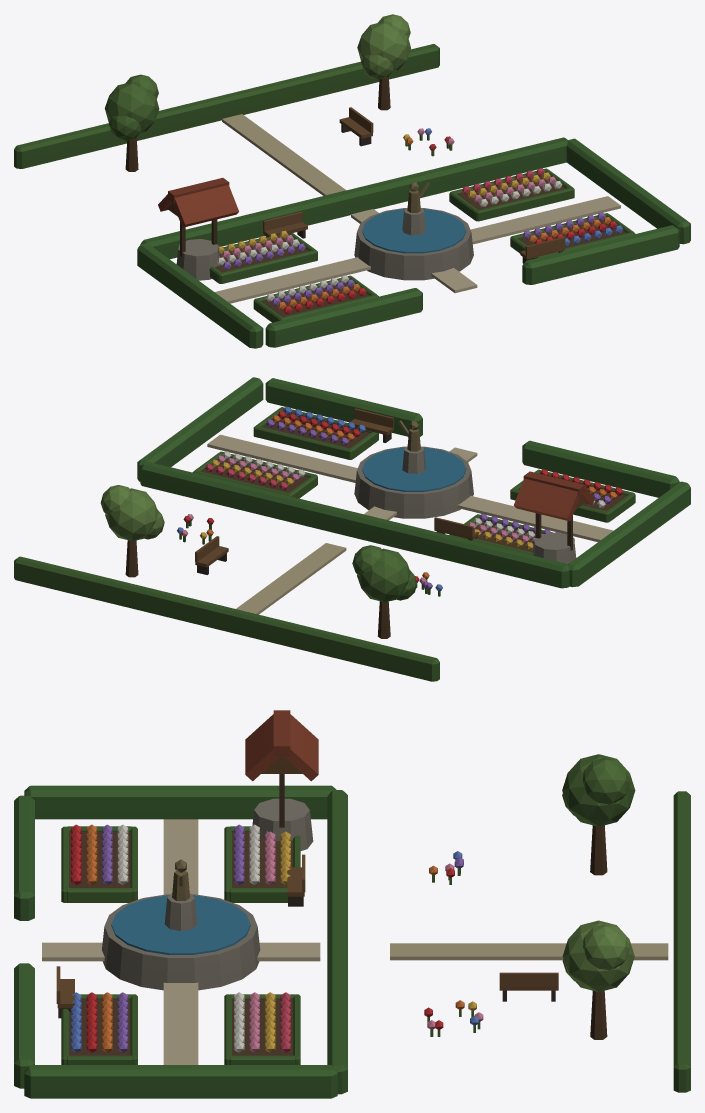
File: fountaingarden.glb
3 renders of one model, top to bottom at view 1: azimuth 30°, elevation 25°; view 2: azimuth 150°, elevation 25°; view 3: azimuth 270°, elevation 25°, orthographic. The views are drawn at different scales.
Visible parts, largest first — view 1: fountaingarden_model; view 2: fountaingarden_model; view 3: fountaingarden_model.
Part boxes in pixels (x1,y1,x2,y2): fountaingarden_model: [14, 14, 690, 348]; fountaingarden_model: [14, 377, 690, 681]; fountaingarden_model: [14, 710, 690, 1098].
Bounding box in the file's own units: 1.96 × 0.3884 × 1.94.
